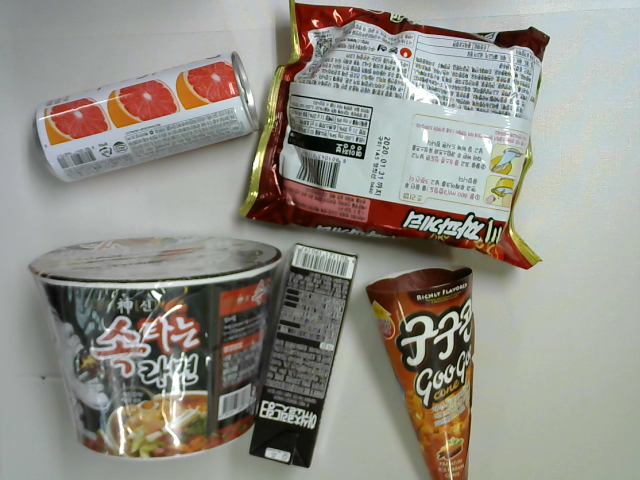Demisoda_Grapefruit_Can_250ml: (27, 42, 267, 191)
GooGoo_Cone_CVS: (356, 258, 483, 480)
HeJangsock: (22, 223, 284, 467)
Hush_Choco_Drink: (244, 232, 366, 480)
Sichuan_Chapaghetti: (232, 1, 562, 281)
